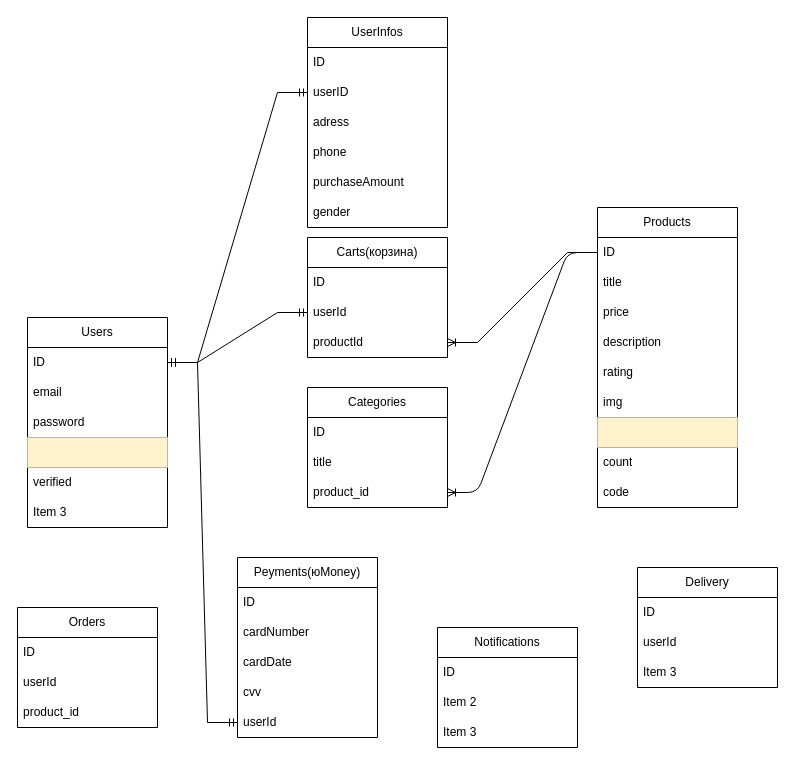
This 795x765 diagram has some shape labels left out. The centre of each missing label's shape, as x and y in pixels:
"refresh_token" goes at [97,452].
"sale" goes at [667,432].
